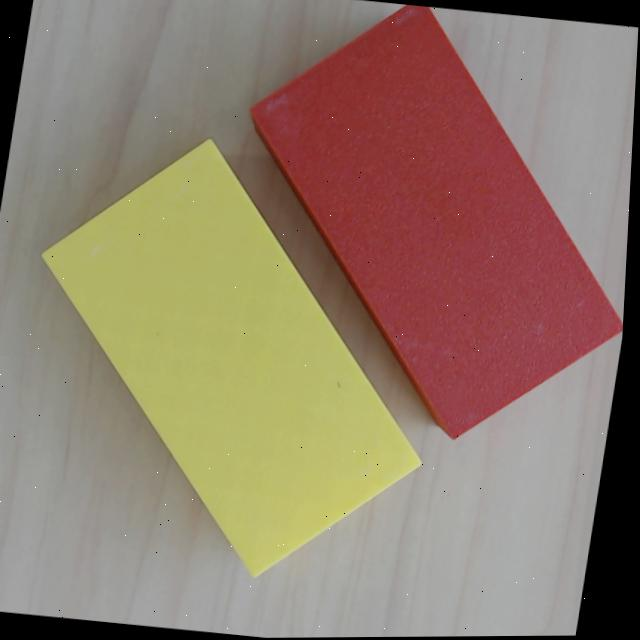Balok-Kuning-1005025: (36, 137, 423, 579)
